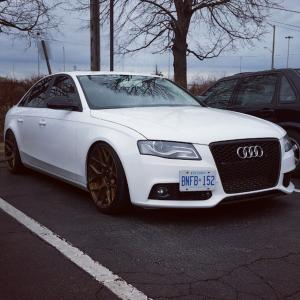Vehicle-registration-plate: (180, 171, 218, 192)
